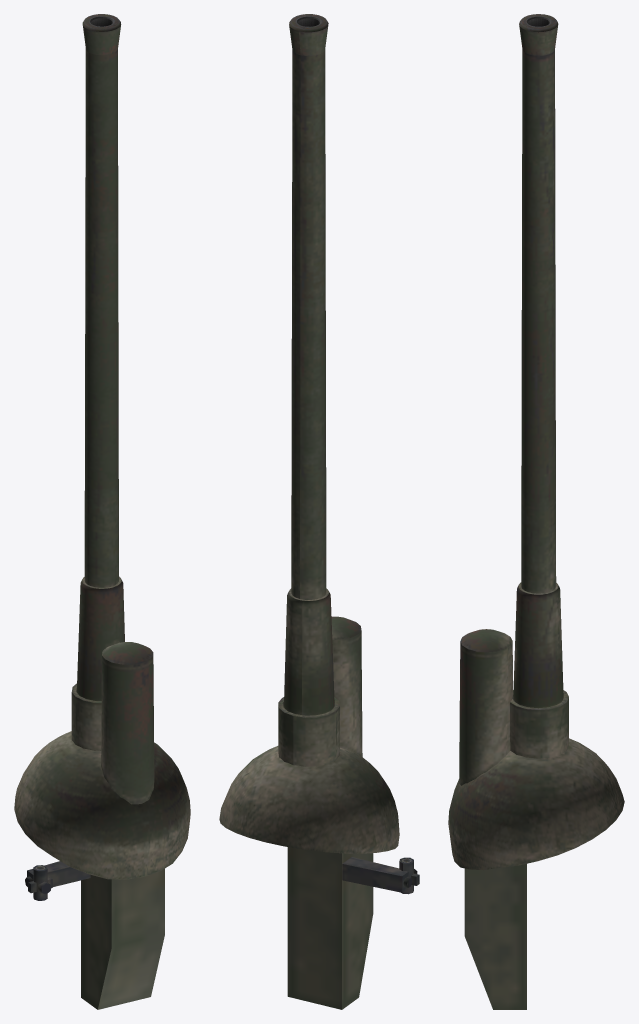
File: Gun_04.glb
3 renders of one model, left to right at view 1: azimuth 30°, elevation 25°; view 2: azimuth 150°, elevation 25°; view 3: azimuth 270°, elevation 25°, orthographic. The views are drawn at different scales.
Parts seen in each view (by area): view 1: set_0_group_0; view 2: set_0_group_0; view 3: set_0_group_0.
Boxes of the visible parts, x1,y1,x2,y2 form: set_0_group_0: (14, 14, 190, 1009); set_0_group_0: (219, 14, 419, 1009); set_0_group_0: (448, 14, 624, 1009).
Bounding box in the file's own units: 0.668 × 3.68 × 0.6041.
Materials: 1 (1 with a texture image).
